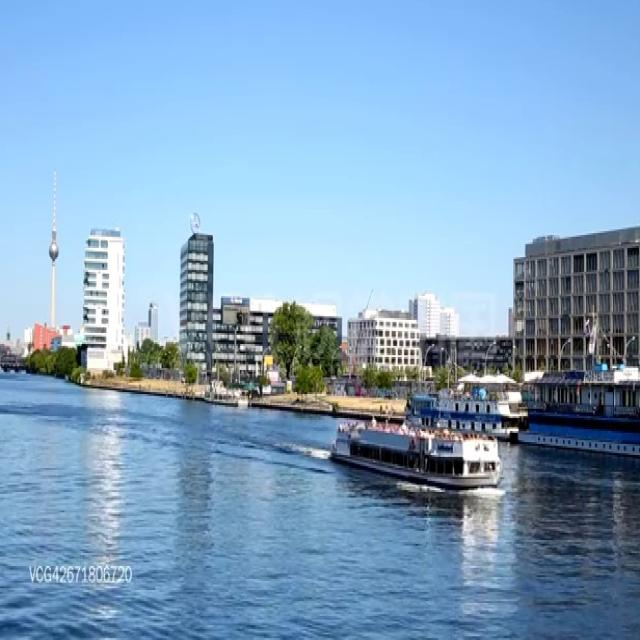passenger ship: (325, 408, 503, 491), (514, 361, 640, 458), (401, 386, 514, 433), (202, 379, 250, 407)
